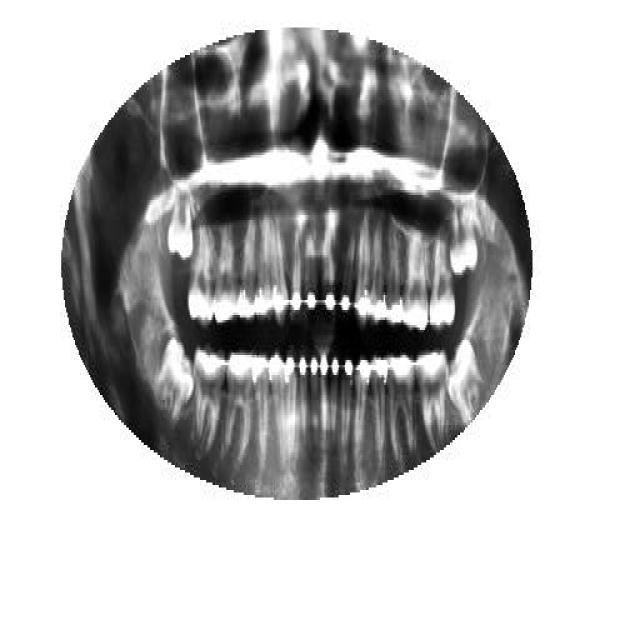Impacted Tooth: (158, 332, 198, 430), (446, 340, 485, 428)
